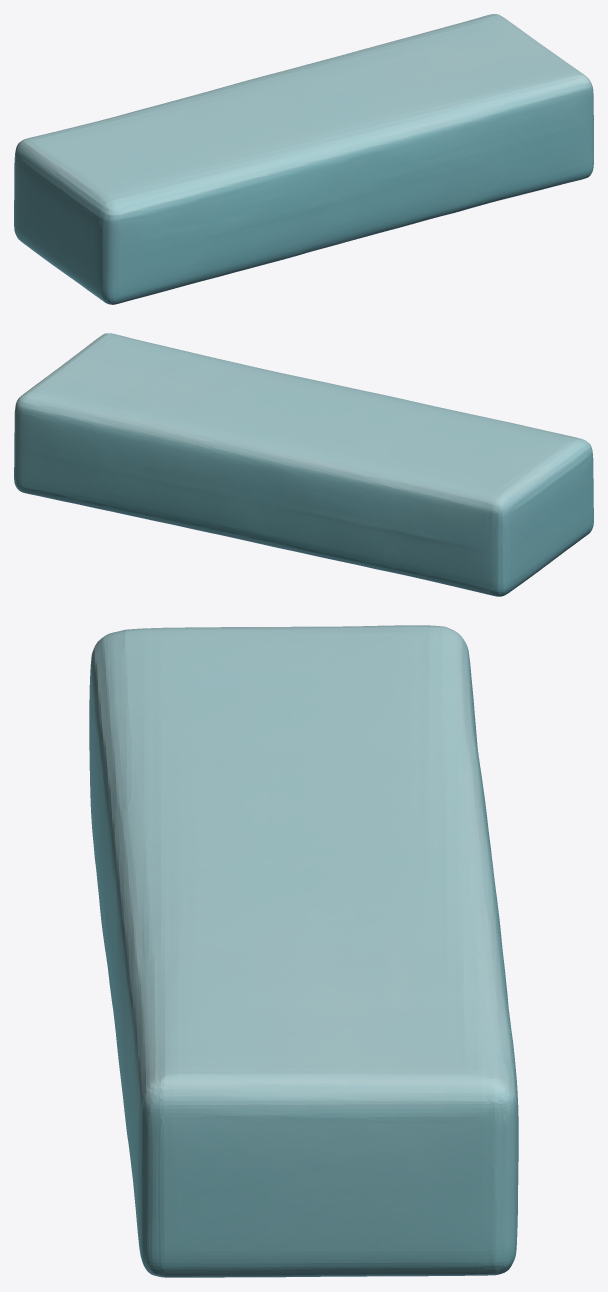
The model's file is obj2_scaled.glb.
3 views of the same model, one above another, from view 1: azimuth 30°, elevation 25°; view 2: azimuth 150°, elevation 25°; view 3: azimuth 270°, elevation 25° (orthographic). The views are drawn at different scales.
Visible parts, largest first — view 1: world; view 2: world; view 3: world.
Boxes of the visible parts, x1,y1,x2,y2 form: world: (14,14,593,304); world: (14,333,593,596); world: (89,625,518,1277).
Size of the model in its own units: 0.0709 by 0.0142 by 0.0272.
